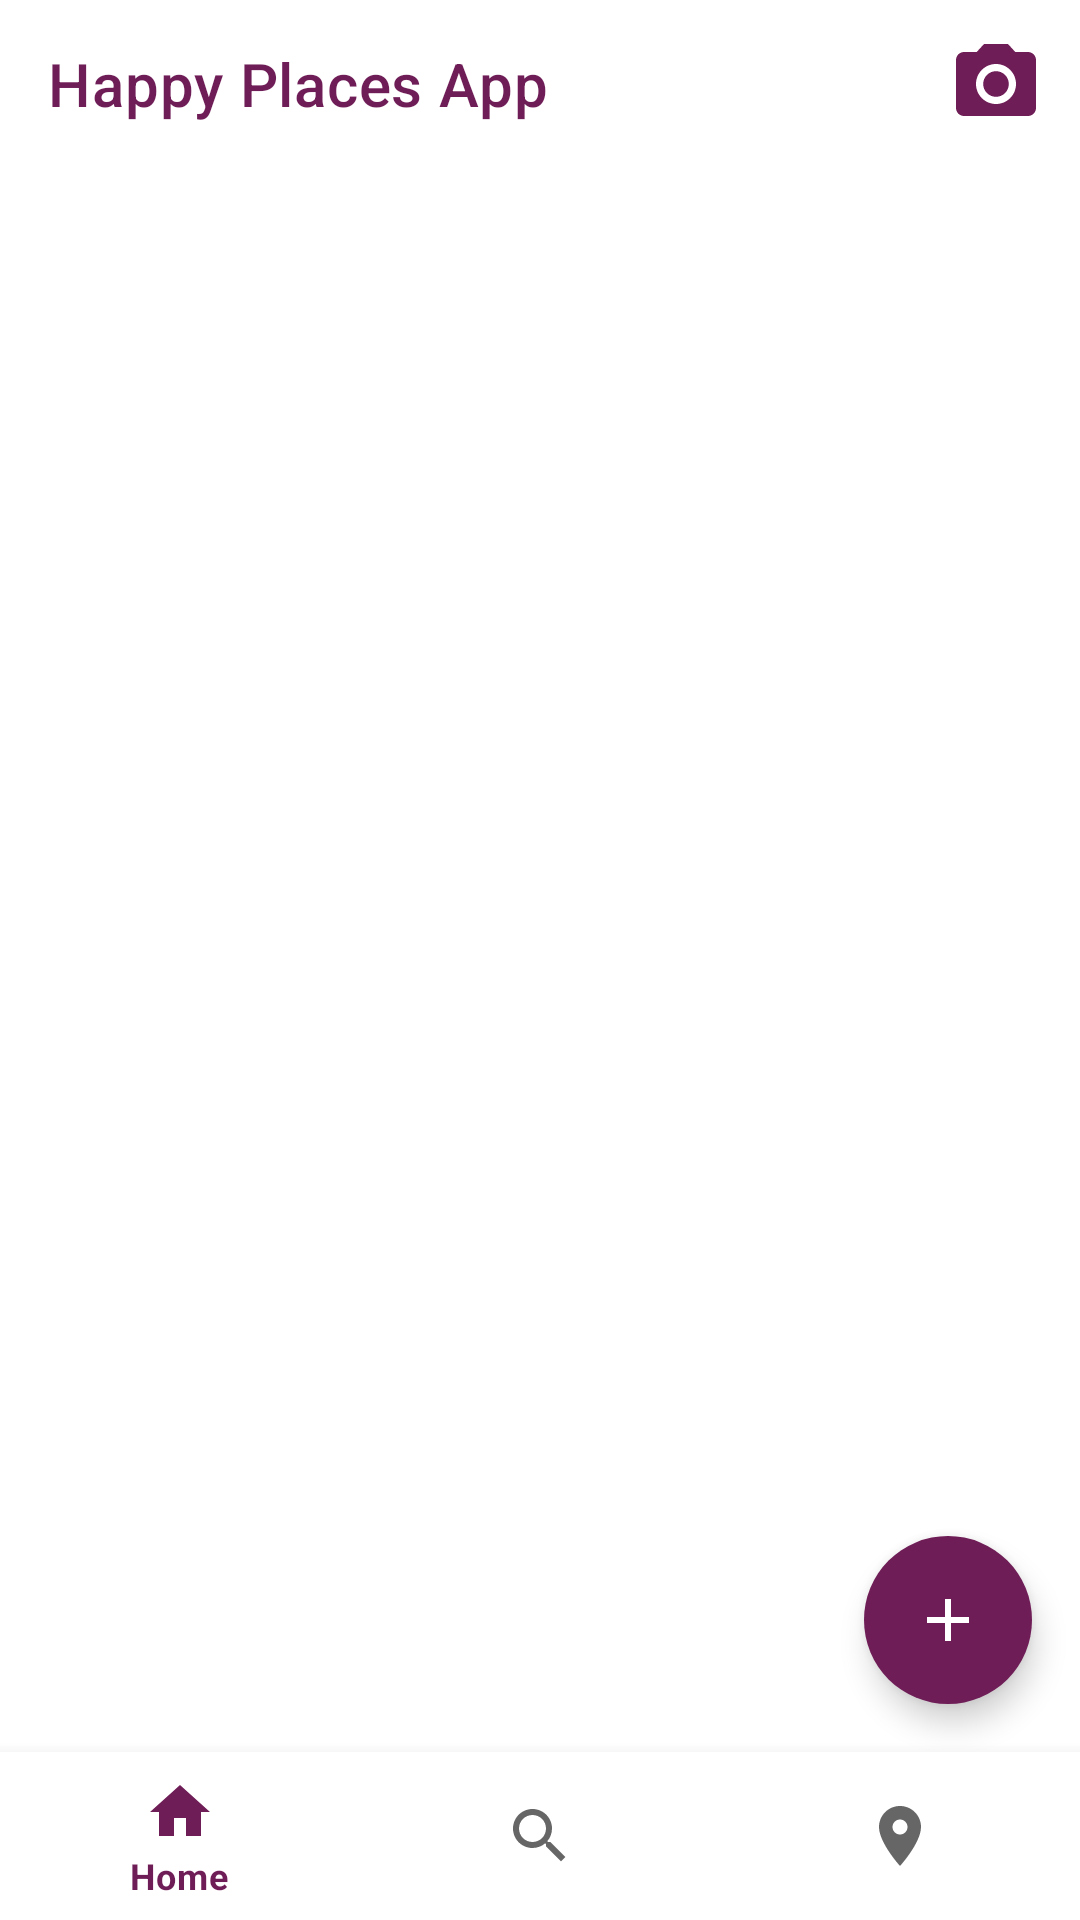

Screen size 1080px x 1920px. Icon name, then its box in pixels as (x1, y1, x2, y2):
Floating Action button: (864, 1536, 1032, 1704)
